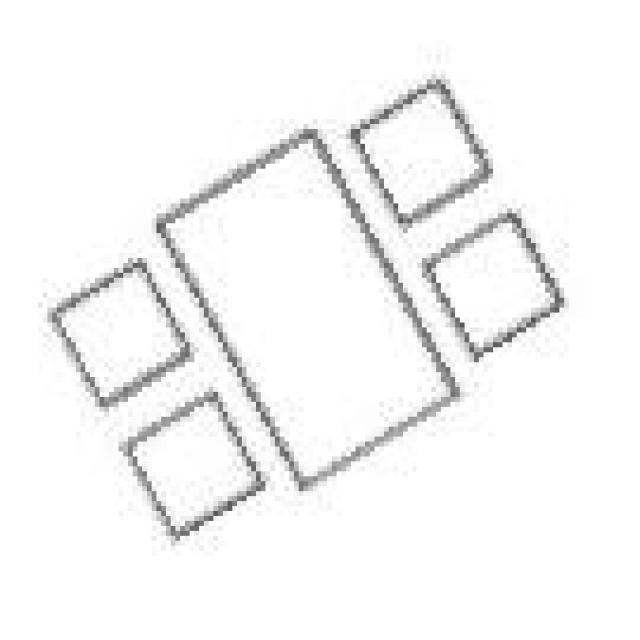table: (43, 79, 559, 546)
